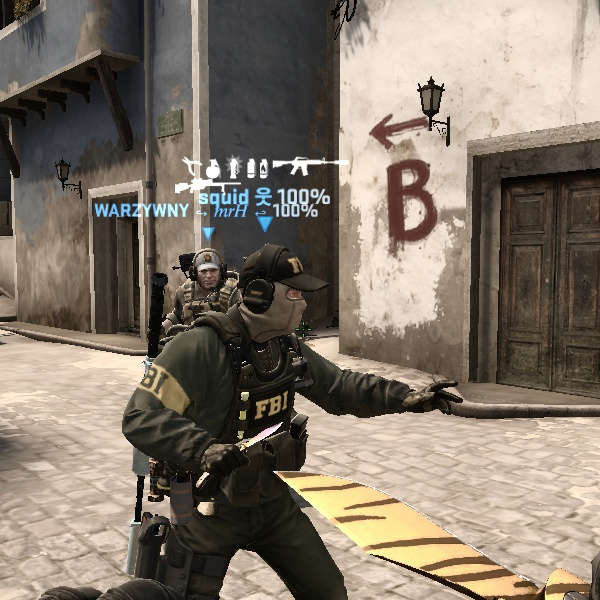ct_body: (98, 243, 395, 590)
ct_head: (222, 238, 330, 348)
